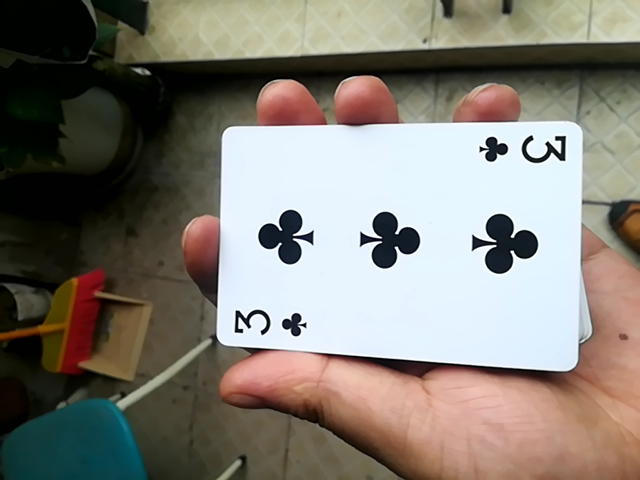mh 3: (188, 123, 583, 377)
